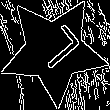L_SW: (25, 22, 82, 79)
